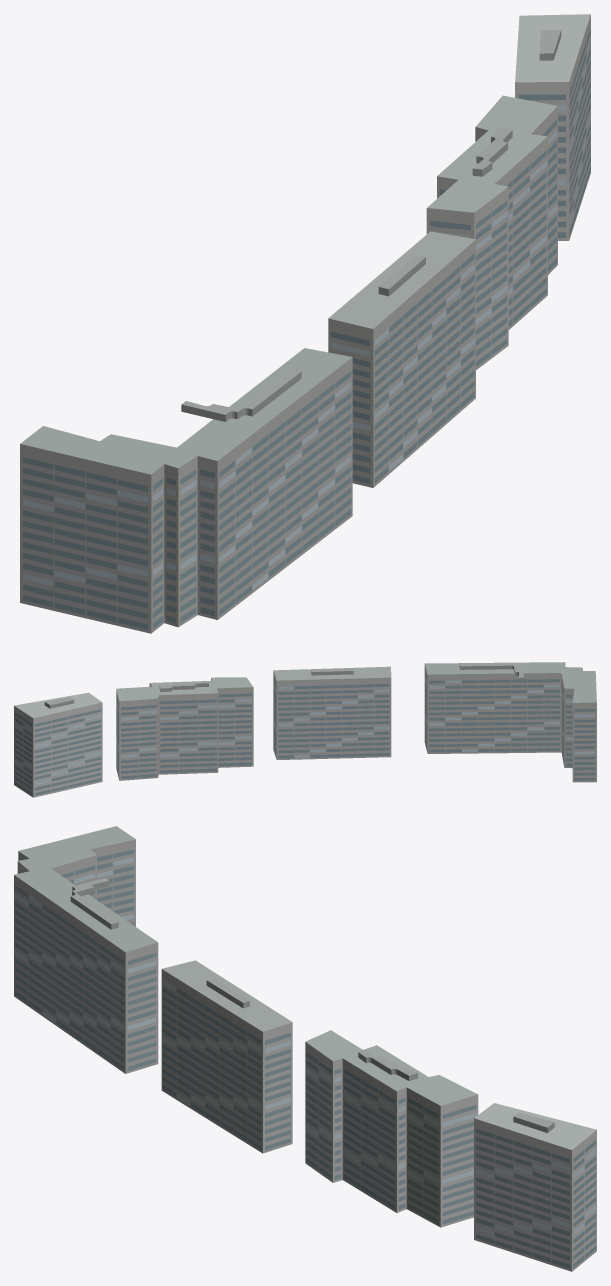
File: apt-a12084504.glb
3 renders of one model, top to bottom at view 1: azimuth 30°, elevation 25°; view 2: azimuth 150°, elevation 25°; view 3: azimuth 270°, elevation 25°, orthographic. The views are drawn at different scales.
Parts seen in each view (by area): view 1: apt-a12084504; view 2: apt-a12084504; view 3: apt-a12084504.
Part boxes in pixels (<box>): apt-a12084504: <box>20,14,590,633</box>; apt-a12084504: <box>14,662,596,797</box>; apt-a12084504: <box>14,826,596,1271</box>.
Bounding box in the file's own units: 261 × 47.81 × 199.
